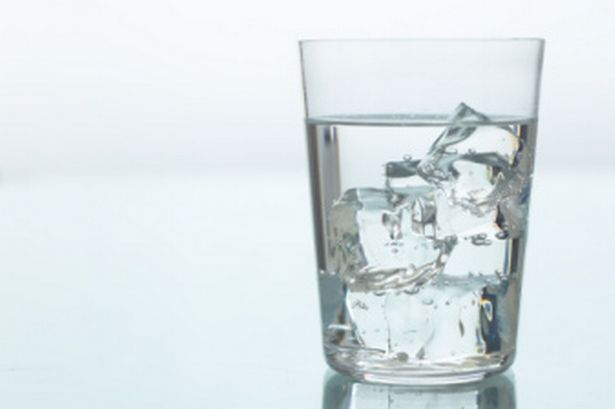glass of water: (295, 42, 541, 401)
